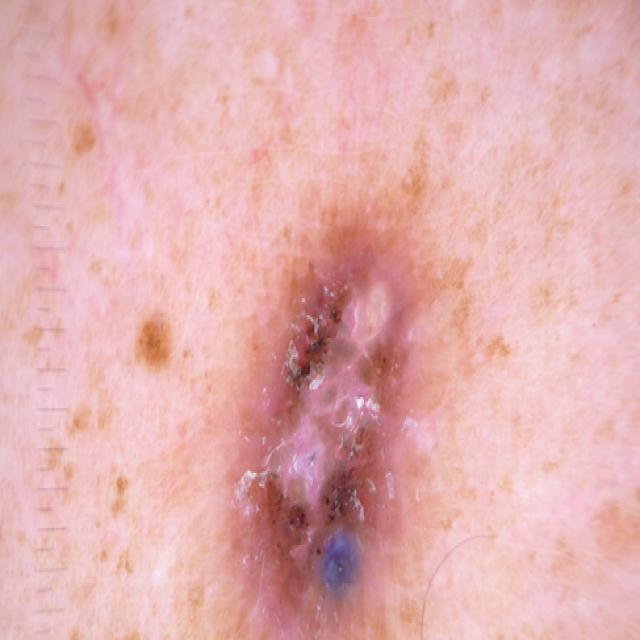Dermatofibroma: (199, 196, 450, 639)
